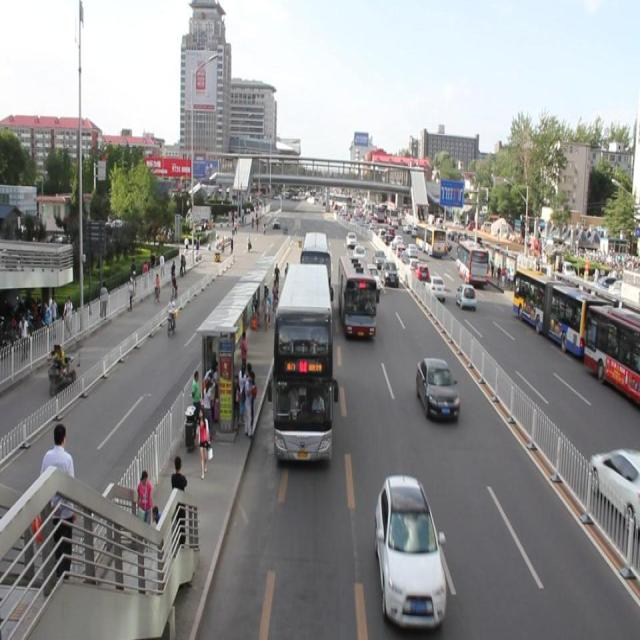car: (372, 476, 449, 630), (413, 350, 463, 424), (360, 261, 382, 302), (380, 259, 400, 289), (370, 246, 388, 268), (350, 242, 367, 263)
van: (268, 265, 341, 467), (335, 252, 381, 348), (296, 228, 335, 315)
